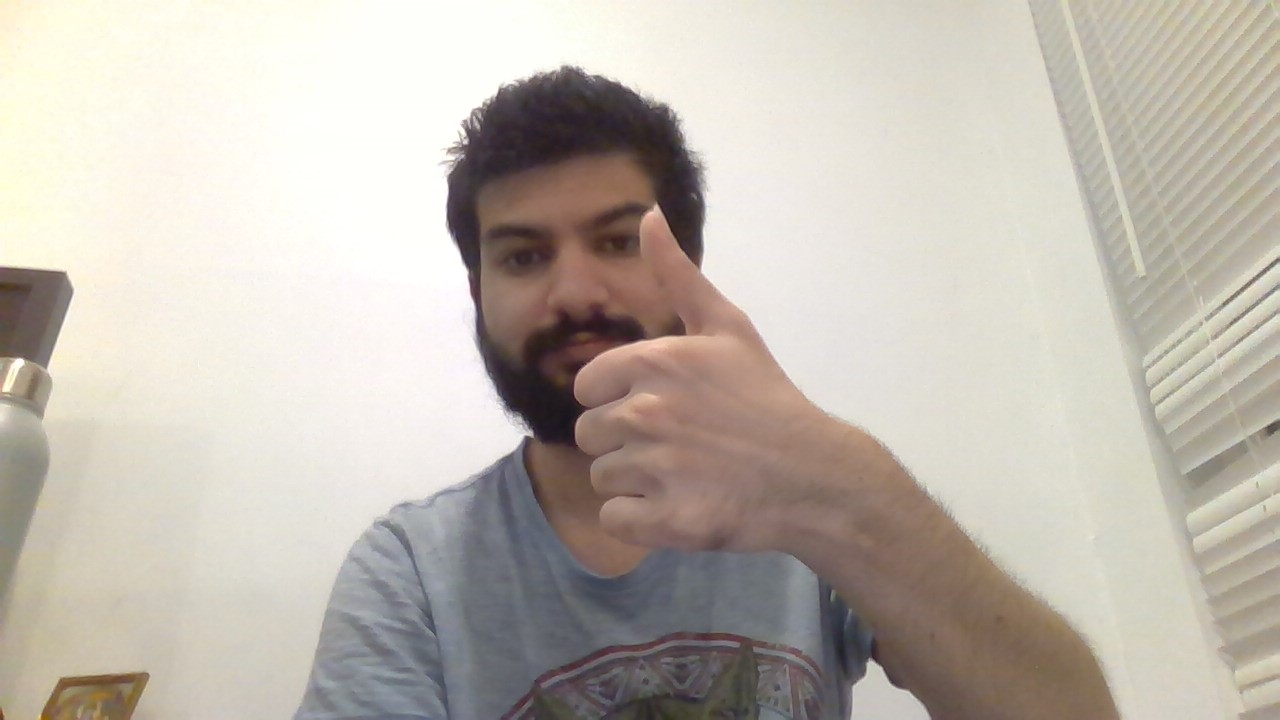up: (569, 196, 783, 563)
